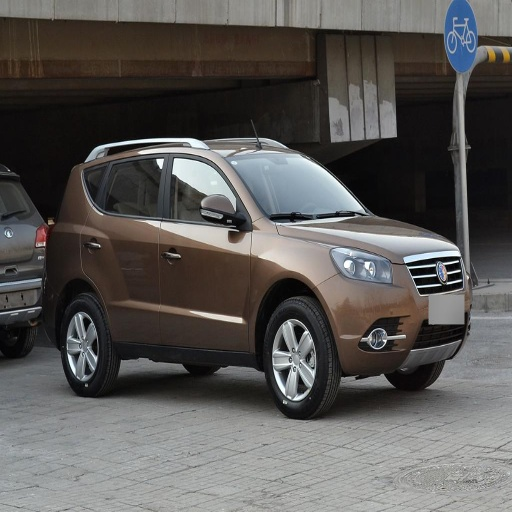back_right_door: (82, 151, 168, 341)
front_bumper: (328, 257, 470, 374)
front_right_door: (159, 151, 250, 347)
front_right_light: (331, 248, 396, 285)
